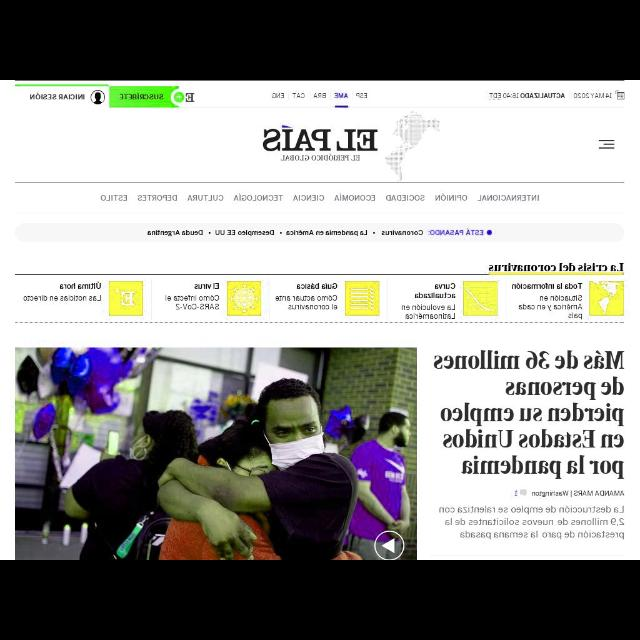icon: (596, 138, 618, 154), (90, 88, 106, 105), (614, 89, 626, 101), (485, 228, 493, 238), (520, 488, 528, 498), (278, 230, 284, 236), (206, 230, 212, 236), (372, 230, 376, 236)
image: (14, 348, 416, 558), (256, 110, 444, 184), (462, 282, 498, 316), (590, 282, 624, 316), (345, 282, 379, 316), (227, 282, 261, 316), (109, 281, 143, 315)
multitab: (1, 81, 639, 107)
text: (432, 348, 626, 487), (436, 505, 626, 541), (516, 294, 584, 320), (488, 261, 626, 273), (273, 293, 339, 311), (160, 294, 222, 312), (508, 280, 586, 292), (399, 304, 457, 320), (531, 489, 625, 498), (411, 282, 457, 300), (476, 192, 542, 204), (488, 91, 566, 101), (146, 228, 204, 240), (284, 229, 370, 237), (22, 295, 102, 303), (232, 192, 284, 204), (214, 228, 274, 238), (27, 92, 85, 102), (428, 227, 484, 237), (56, 280, 102, 292), (384, 192, 426, 205), (333, 192, 377, 204), (294, 280, 338, 292), (136, 192, 178, 204), (572, 90, 612, 102), (185, 193, 225, 205), (379, 228, 425, 238), (432, 192, 468, 204), (291, 193, 325, 205), (99, 192, 129, 205), (193, 282, 220, 290), (333, 90, 349, 100), (290, 91, 306, 101), (354, 90, 368, 100), (312, 92, 328, 100), (270, 91, 286, 99)
toolbar: (1, 108, 640, 216)
